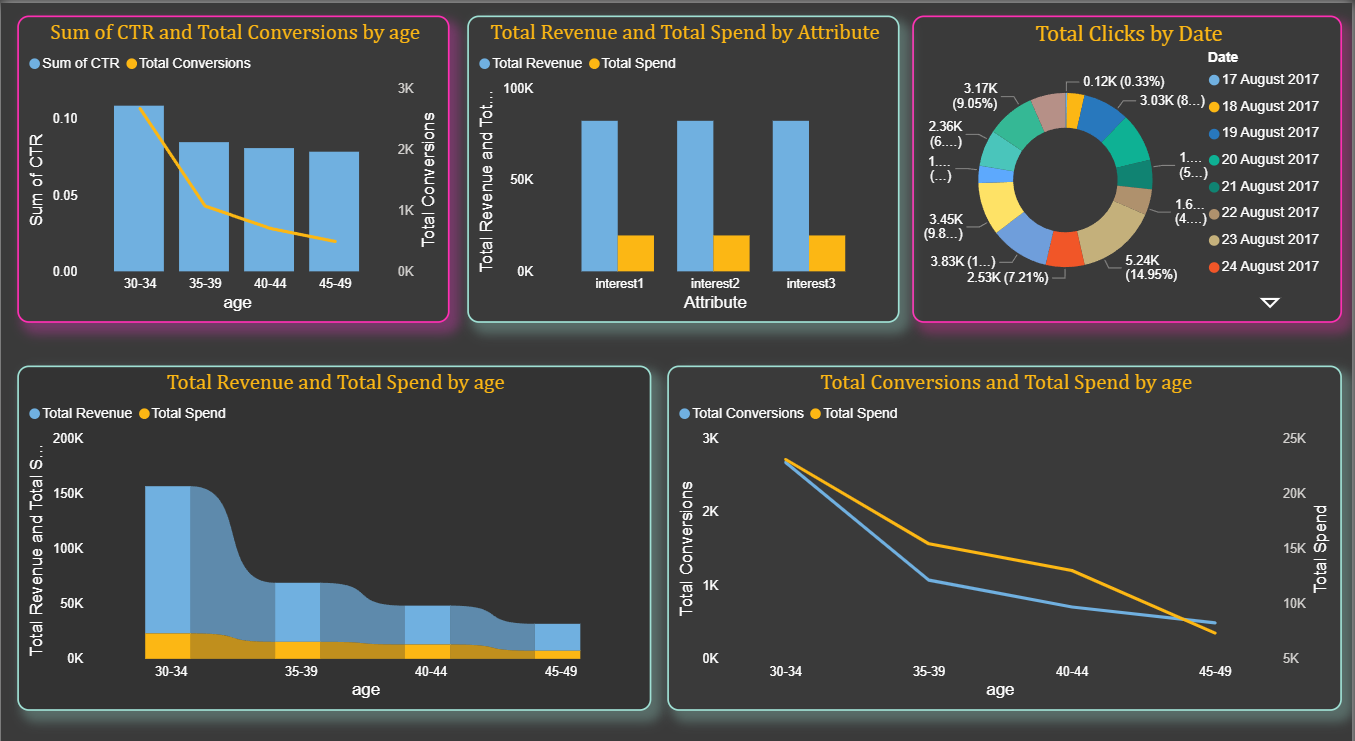

The dashboard page shown, as its layout file describes it:
{"tool":"powerbi","page":{"name":"Audience","canvas":[1280,720],"ordinal":1},"visuals":[{"type":"lineStackedColumnComboChart","fields":{"Category":["data.age"],"Y":["Sum(data.CTR)"],"Y2":["data.Total Conversions"]},"box":[15.4,11.8,409.8,291.3],"z":0},{"type":"donutChart","fields":{"Y":["data.Total Clicks"],"Category":["data.Date"]},"box":[863.4,11.8,407.4,291.3],"z":1000},{"type":"clusteredColumnChart","fields":{"Category":["data.Attribute"],"Y":["data.Total Revenue","data.Total Spend"]},"box":[441.7,11.8,409.8,291.3],"z":2000},{"type":"ribbonChart","fields":{"Category":["data.age"],"Y":["data.Total Revenue","data.Total Spend"]},"box":[15.4,343.4,600.4,326.9],"z":3000},{"type":"lineChart","fields":{"Category":["data.age"],"Y2":["data.Total Spend"],"Y":["data.Total Conversions"]},"box":[631.2,343.4,639.5,326.9],"z":4000}]}

Visuals, with their boxes in screenshot pixels (x1, y1, x2, y2), scaled from the page's 1280x720 canvas onto the 1355x741 screenshot:
lineStackedColumnComboChart - data.age x Sum(data.CTR): crop(16, 12, 450, 312)
donutChart - data.Total Clicks x data.Date: crop(914, 12, 1345, 312)
clusteredColumnChart - data.Attribute x data.Total Revenue: crop(468, 12, 901, 312)
ribbonChart - data.age x data.Total Revenue: crop(16, 353, 652, 690)
lineChart - data.age x data.Total Spend: crop(668, 353, 1345, 690)
